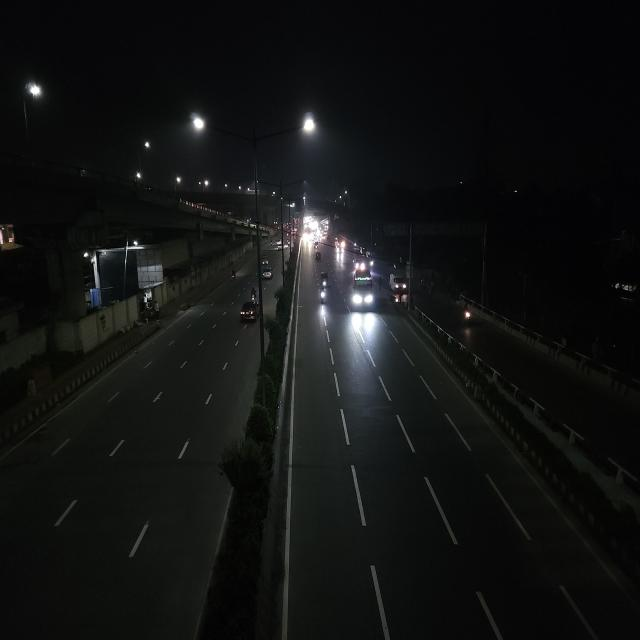bus: (351, 268, 377, 314)
car: (238, 298, 261, 326), (390, 271, 408, 294), (262, 268, 274, 282)
cng: (320, 271, 330, 287)
motorcycle: (457, 299, 475, 329), (316, 284, 330, 304), (248, 286, 258, 300), (230, 267, 239, 282)
pedestrian: (378, 274, 382, 292)
